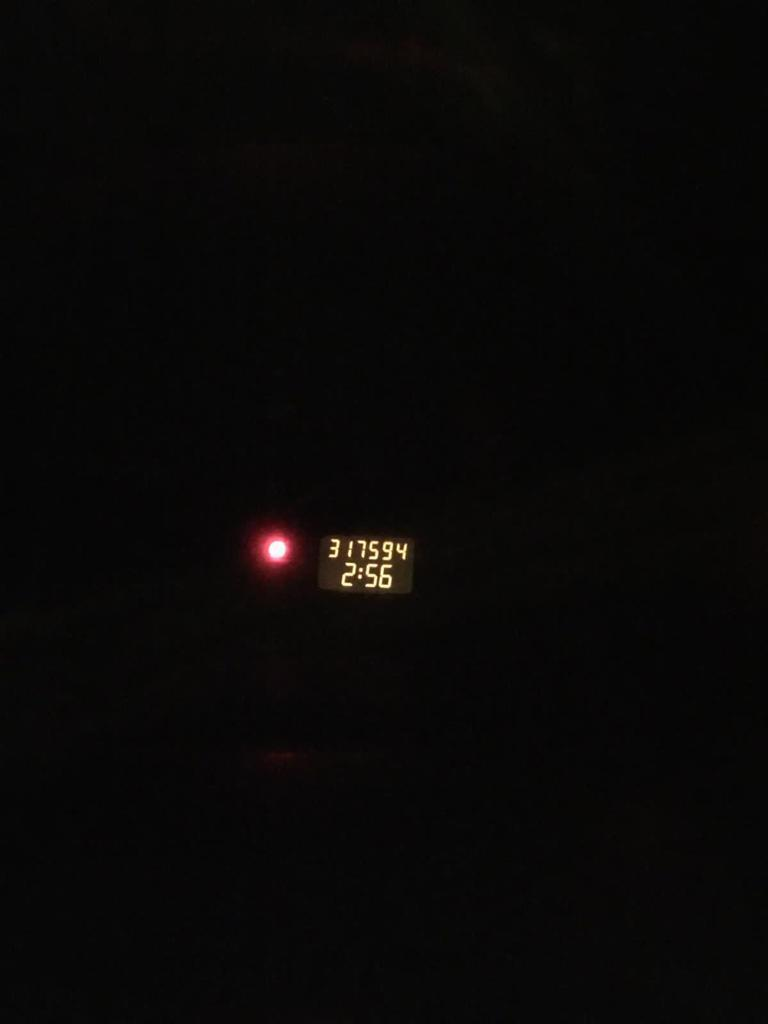1: (345, 538, 354, 557)
2: (339, 560, 356, 586)
3: (327, 537, 340, 558)
4: (395, 541, 408, 560)
5: (364, 562, 378, 589), (368, 539, 379, 560)
6: (378, 563, 393, 589)
7: (356, 538, 367, 558)
9: (381, 540, 394, 561)
X: (357, 565, 363, 579)
odometer: (312, 531, 418, 598)
